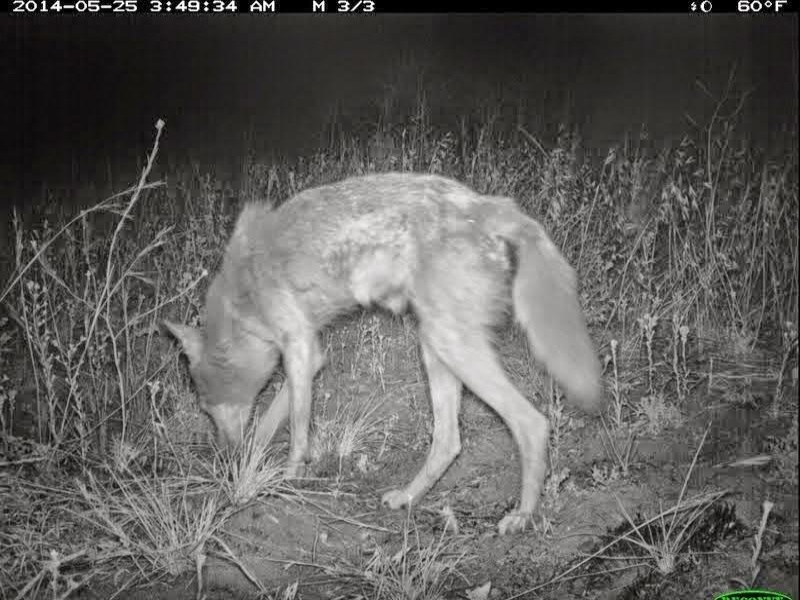coyote: (169, 169, 601, 536)
